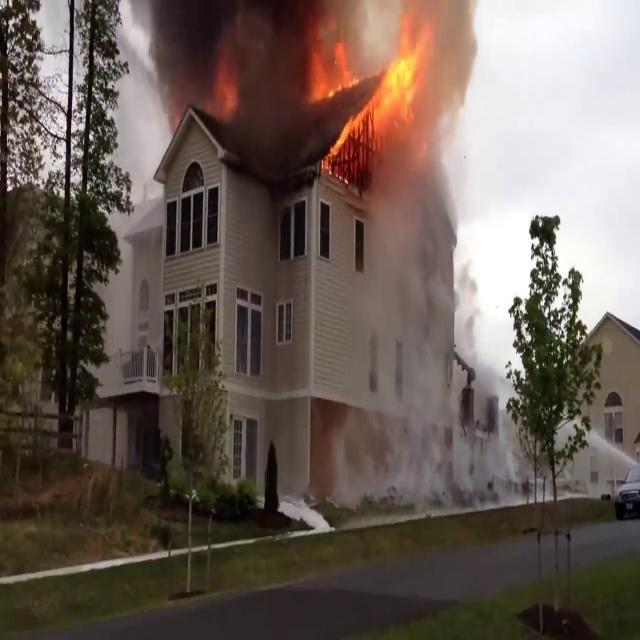Fire: (311, 9, 428, 163)
Smoke: (342, 1, 514, 507), (132, 0, 319, 143)
